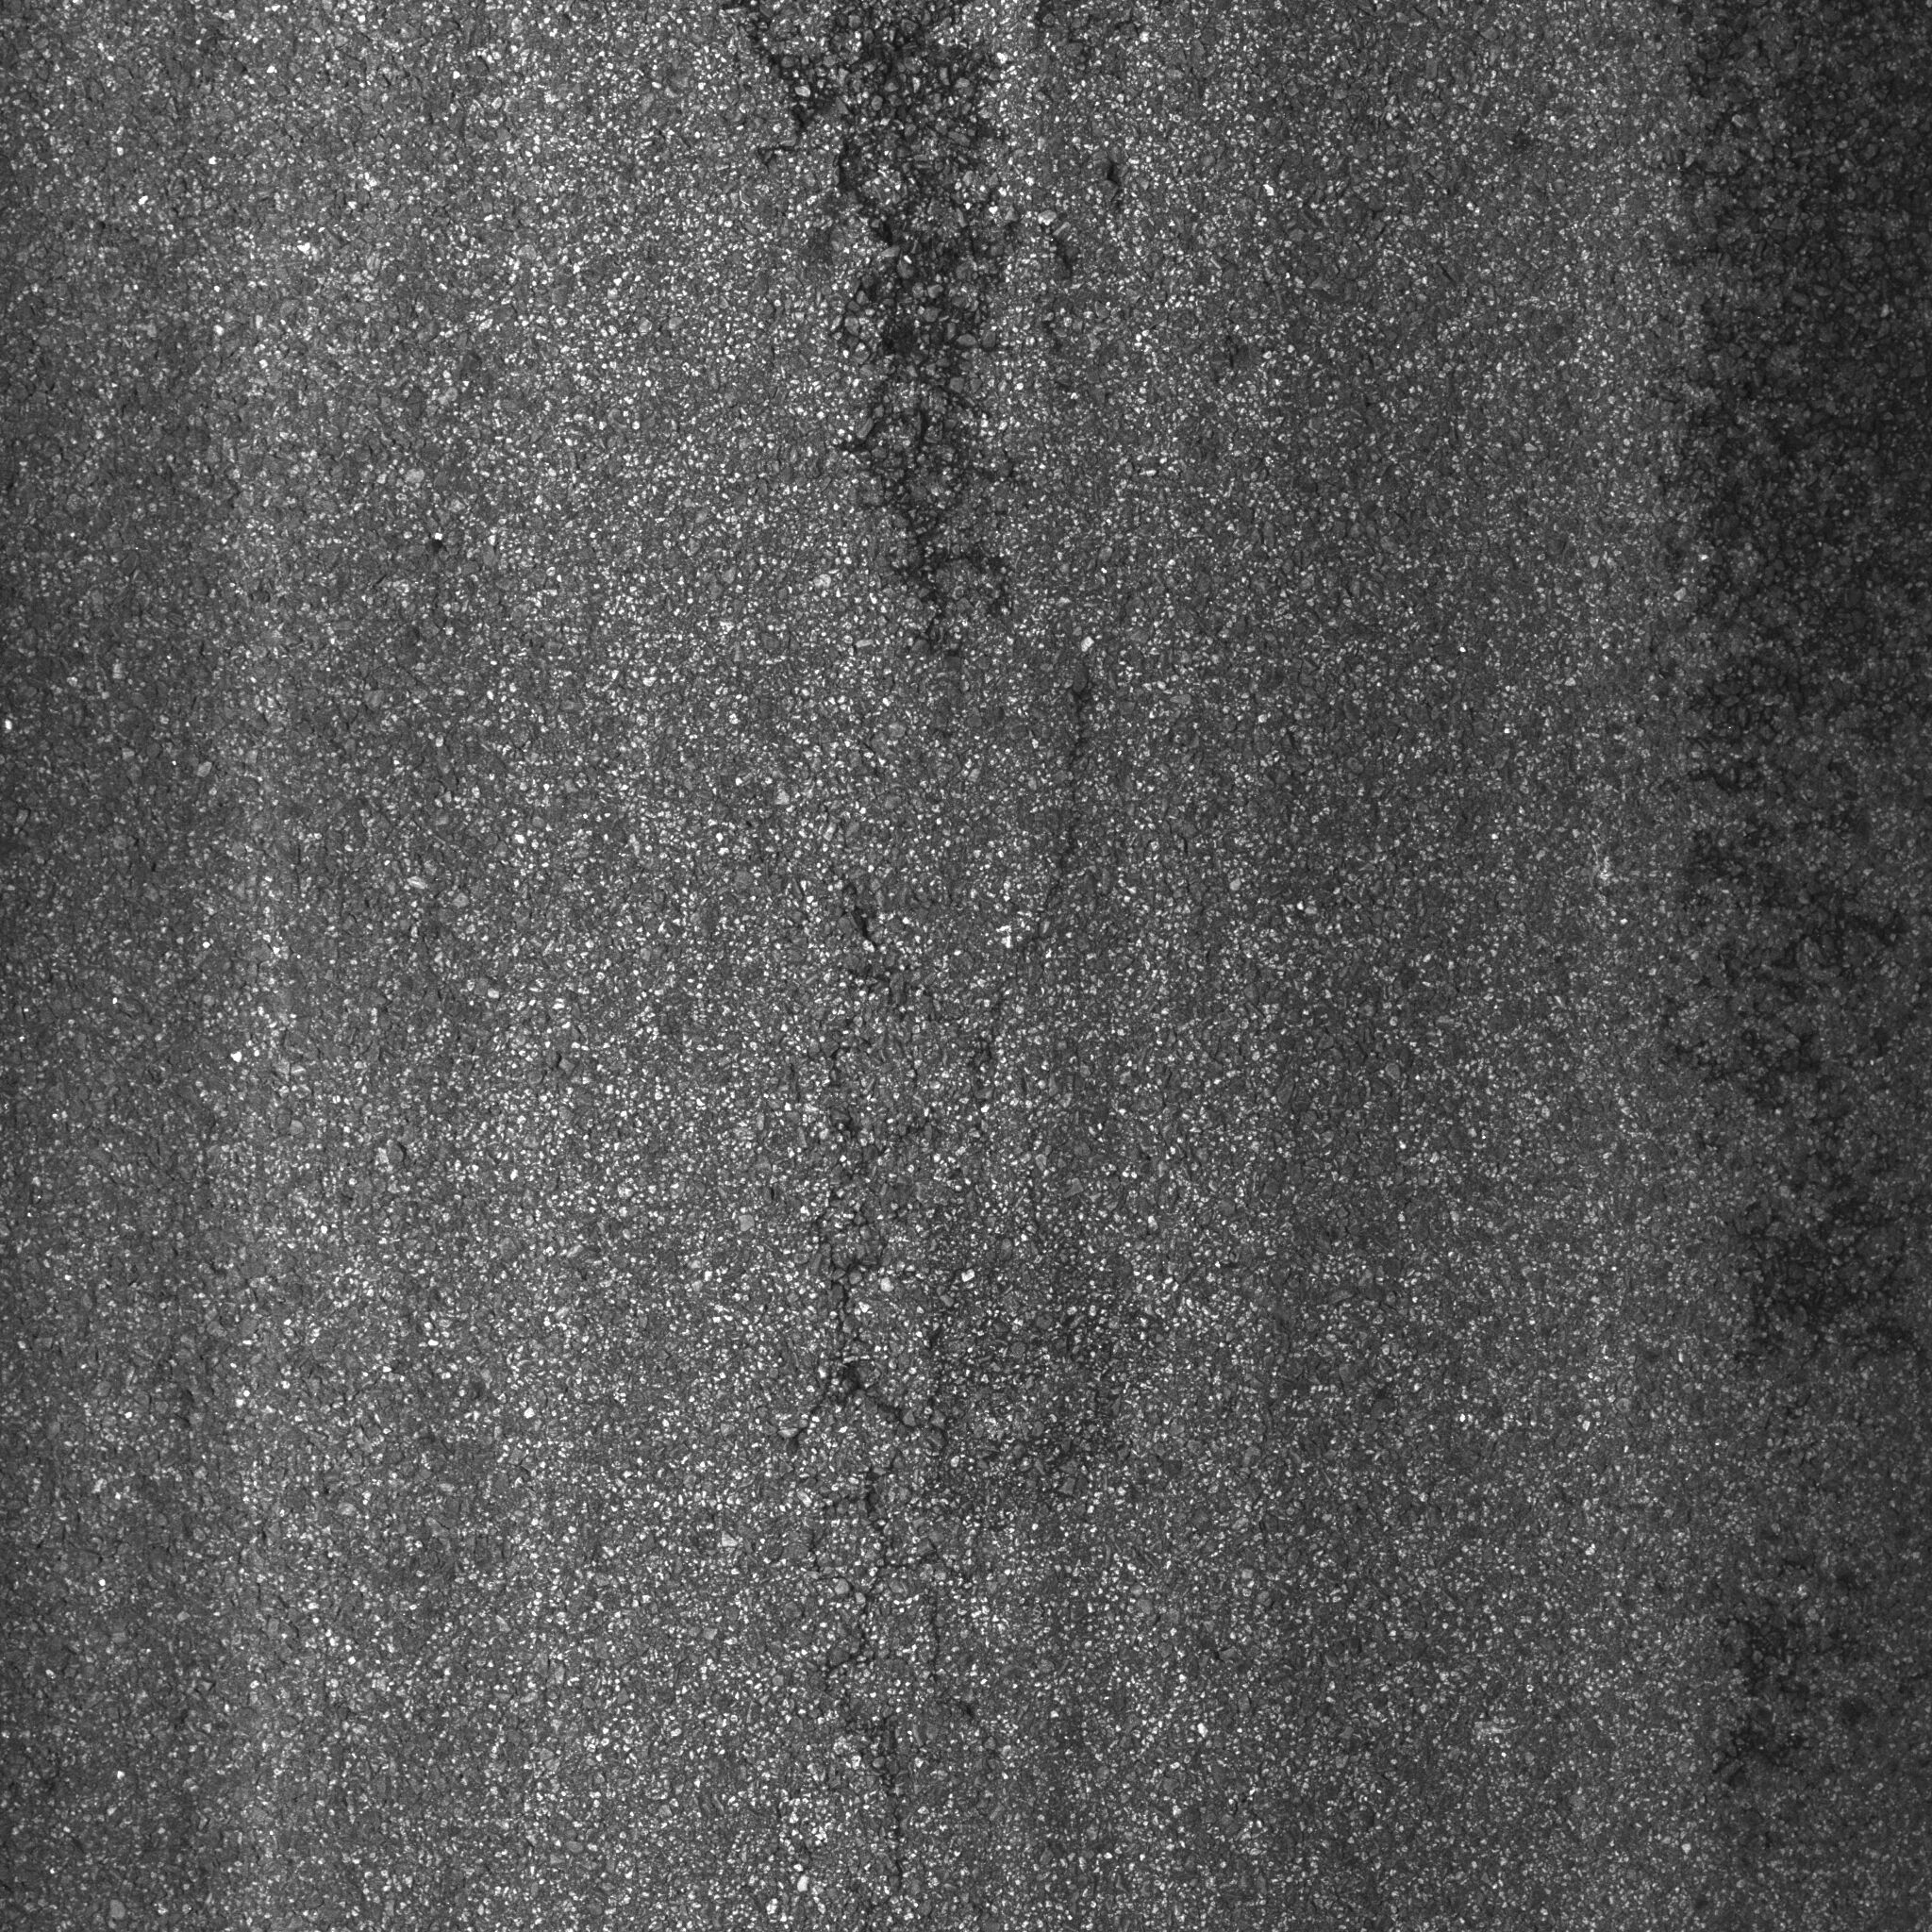longitudinal: (814, 817, 971, 1911), (1012, 653, 1118, 1035)
